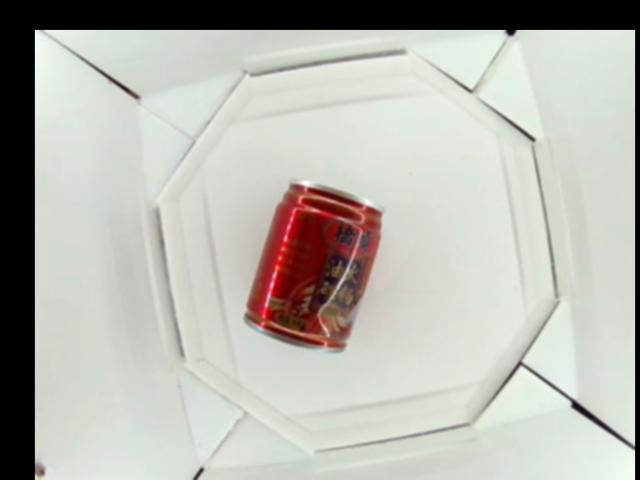Bottle: (239, 178, 387, 354)
